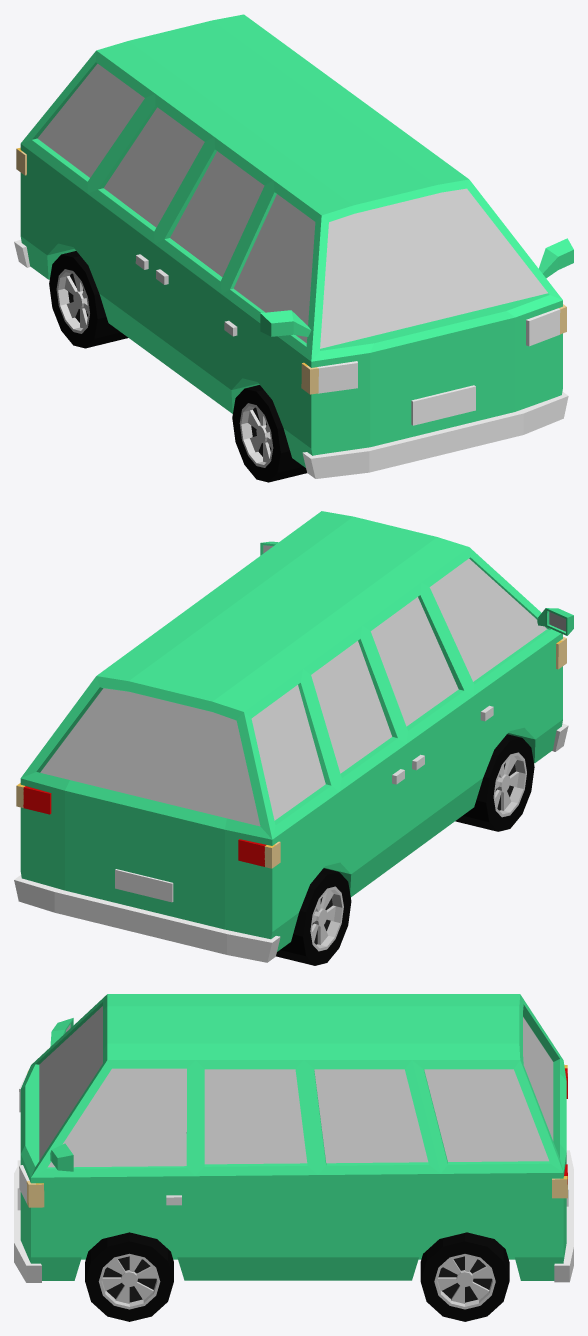
Rendered from Car-05-C.fbx.
3 views of the same model, one above another, from view 1: azimuth 30°, elevation 25°; view 2: azimuth 150°, elevation 25°; view 3: azimuth 270°, elevation 25° (orthographic). The views are drawn at different scales.
Parts seen in each view (by area): view 1: Car-05, FR, BR, HeadLight, Light-Right; view 2: Car-05, BR, FR, Break-Light, Light-Right; view 3: Car-05, BL, FL, Light-Left.
Part boxes in pixels (x1,y1,x2,y2): Car-05: (14, 14, 573, 478); FR: (232, 385, 306, 482); BR: (49, 251, 128, 348); HeadLight: (317, 308, 560, 393); Light-Right: (16, 148, 318, 394); Car-05: (14, 511, 573, 962); BR: (276, 868, 351, 965); FR: (455, 734, 534, 831); Break-Light: (23, 787, 264, 866); Light-Right: (264, 637, 566, 868); Car-05: (14, 994, 573, 1282); BL: (420, 1232, 509, 1321); FL: (85, 1232, 173, 1321); Light-Left: (26, 1178, 567, 1207).
Size of the model in its own units: 2.52 by 2.06 by 4.35.
